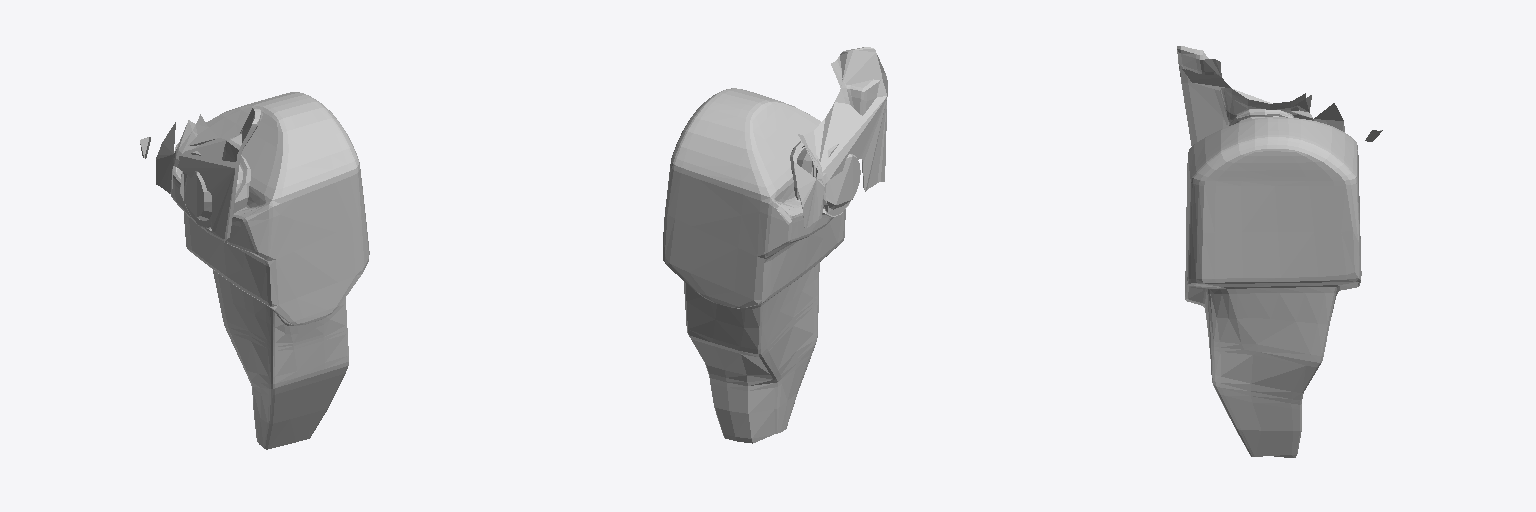
Rendered from Muslo_Derecho.obj.
The picture shows the model from 3 angles: view 1: azimuth 30°, elevation 25°; view 2: azimuth 150°, elevation 25°; view 3: azimuth 270°, elevation 25°; orthographic projection.
Parts seen in each view (by area): view 1: rig_test.001; view 2: rig_test.001; view 3: rig_test.001.
Boxes of the visible parts, x1,y1,x2,y2 form: rig_test.001: [140, 92, 369, 449]; rig_test.001: [663, 47, 887, 443]; rig_test.001: [1177, 46, 1382, 457].
Size of the model in its own units: 23.06 by 54.78 by 27.59.